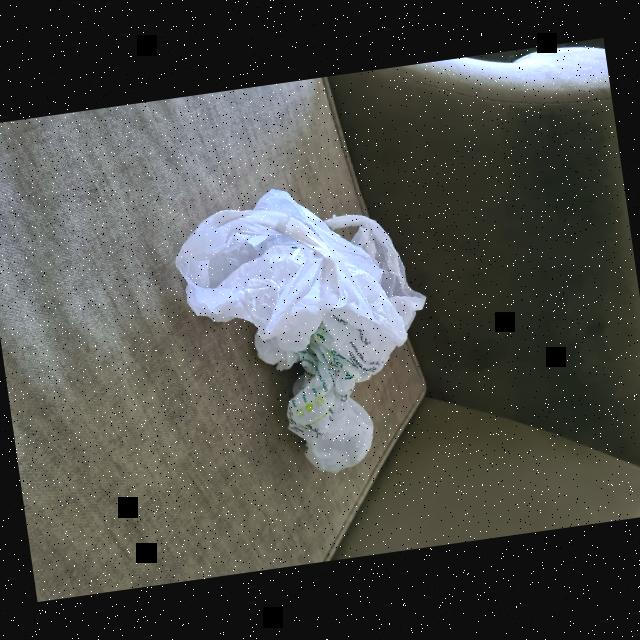plastic_bag: (161, 145, 451, 509)
